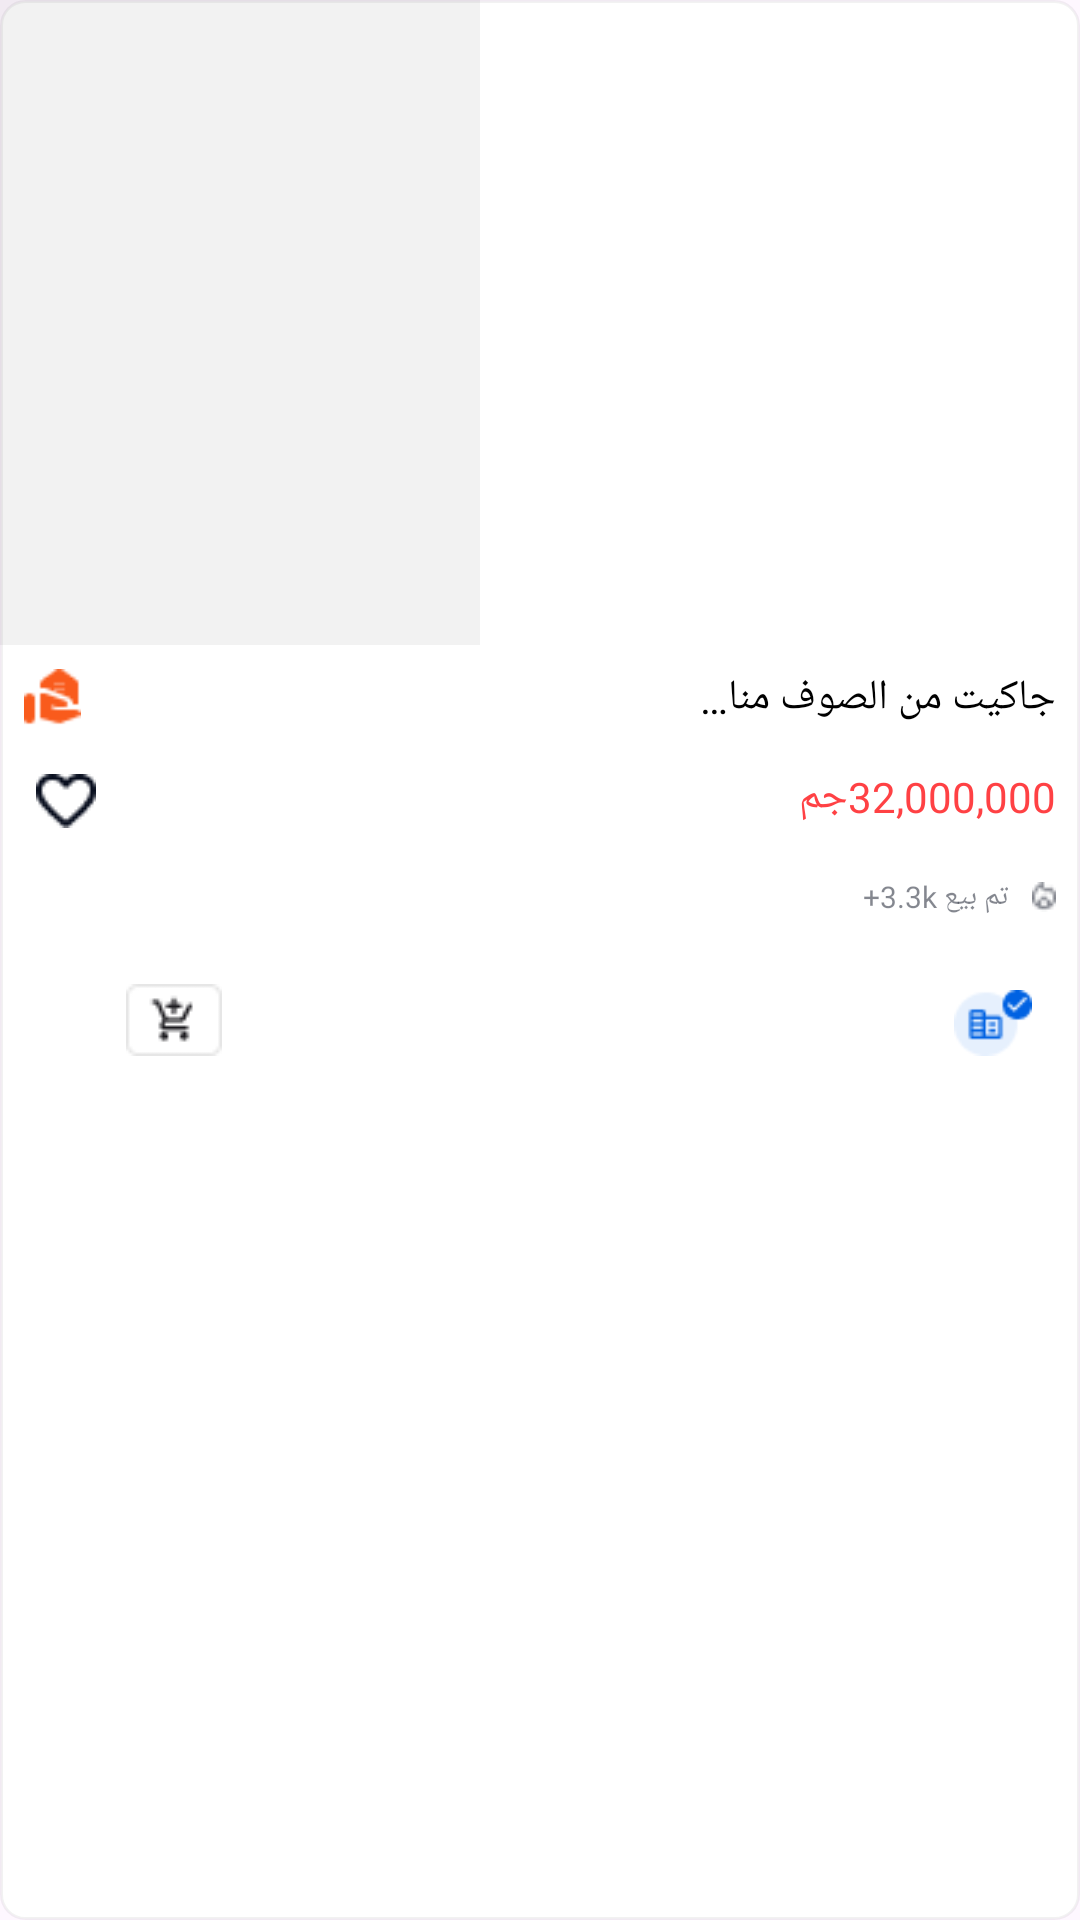

Icon bounding boxes for this 1080x1920 phone screenshot, format (x1, y1, x2, y2):
add to cart: (126, 984, 222, 1056)
company badge: (954, 990, 1032, 1056)
favorite: (36, 774, 96, 828)
